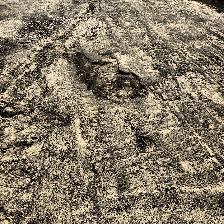pothole: (73, 50, 149, 104), (137, 135, 157, 153)
